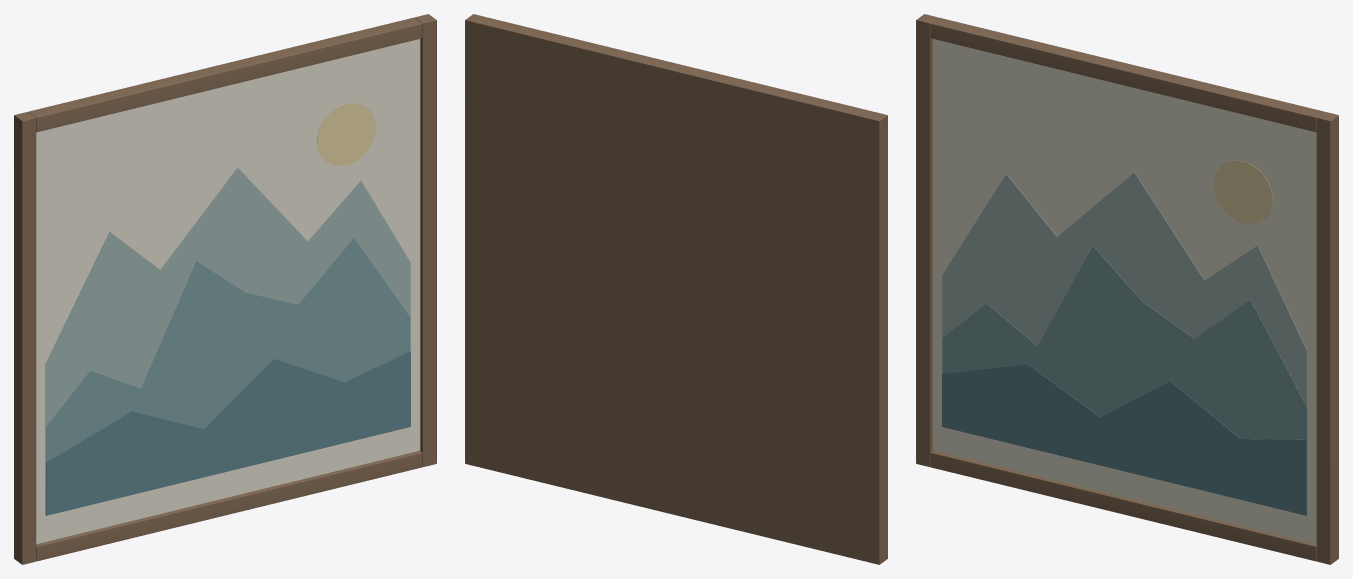
Rendered from wallart_v06c.glb.
3 renders of one model, left to right at view 1: azimuth 30°, elevation 25°; view 2: azimuth 150°, elevation 25°; view 3: azimuth 330°, elevation 25°, orthographic.
Visible parts, largest first — view 1: VIS_WallArt; view 2: VIS_WallArt; view 3: VIS_WallArt.
Boxes of the visible parts, x1,y1,x2,y2 form: VIS_WallArt: (14,14,436,564); VIS_WallArt: (465,14,887,564); VIS_WallArt: (916,14,1338,564).
Size of the model in its own units: 0.858 by 0.878 by 0.03.
